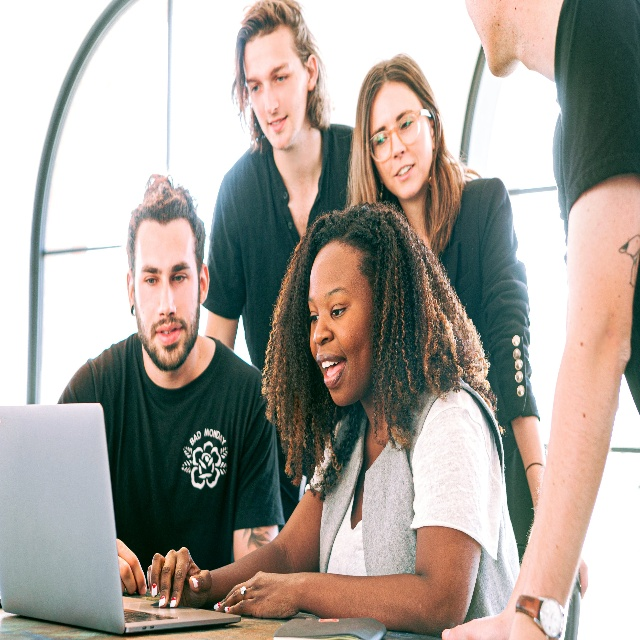Gafas: (368, 109, 431, 163)
Sin_guantes: (213, 569, 299, 619), (146, 548, 213, 609), (441, 608, 509, 640), (115, 537, 147, 597)
